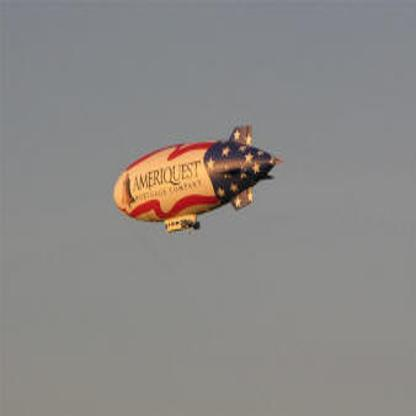Airship: (109, 122, 285, 236)
